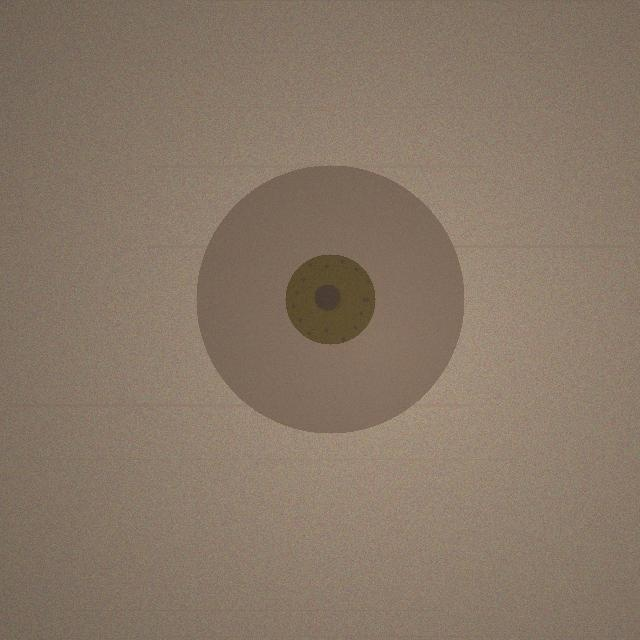cold_weld: (196, 165, 464, 433)
